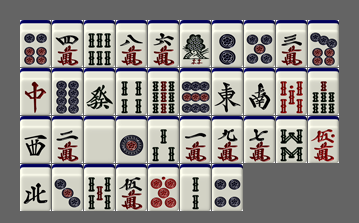0m: (308, 116, 339, 163)
0p: (148, 164, 179, 211)
0s: (276, 68, 307, 115)
1m: (180, 116, 211, 163)
1p: (116, 116, 147, 163)
1s: (180, 20, 211, 67)
1z: (212, 68, 243, 115)
2m: (52, 116, 83, 163)
2p: (212, 20, 243, 67)
2s: (180, 164, 211, 211)
2z: (244, 68, 275, 115)
3m: (276, 20, 307, 67)
3p: (52, 164, 83, 211)
3s: (148, 116, 179, 163)
3z: (20, 116, 51, 163)
4m: (52, 20, 83, 67)
4p: (212, 164, 243, 211)
4s: (116, 68, 147, 115)
4z: (20, 164, 51, 211)
5m: (116, 164, 147, 211)
5p: (244, 20, 275, 67)
5s: (84, 164, 115, 211)
5z: (84, 116, 115, 163)
6m: (148, 20, 179, 67)
6p: (20, 20, 51, 67)
6s: (84, 20, 115, 67)
6z: (84, 68, 115, 115)
7m: (244, 116, 275, 163)
7p: (308, 20, 339, 67)
7s: (308, 68, 339, 115)
7z: (20, 68, 51, 115)
8m: (116, 20, 147, 67)
8p: (52, 68, 83, 115)
8s: (276, 116, 307, 163)
9m: (212, 116, 243, 163)
9p: (180, 68, 211, 115)
9s: (148, 68, 179, 115)
